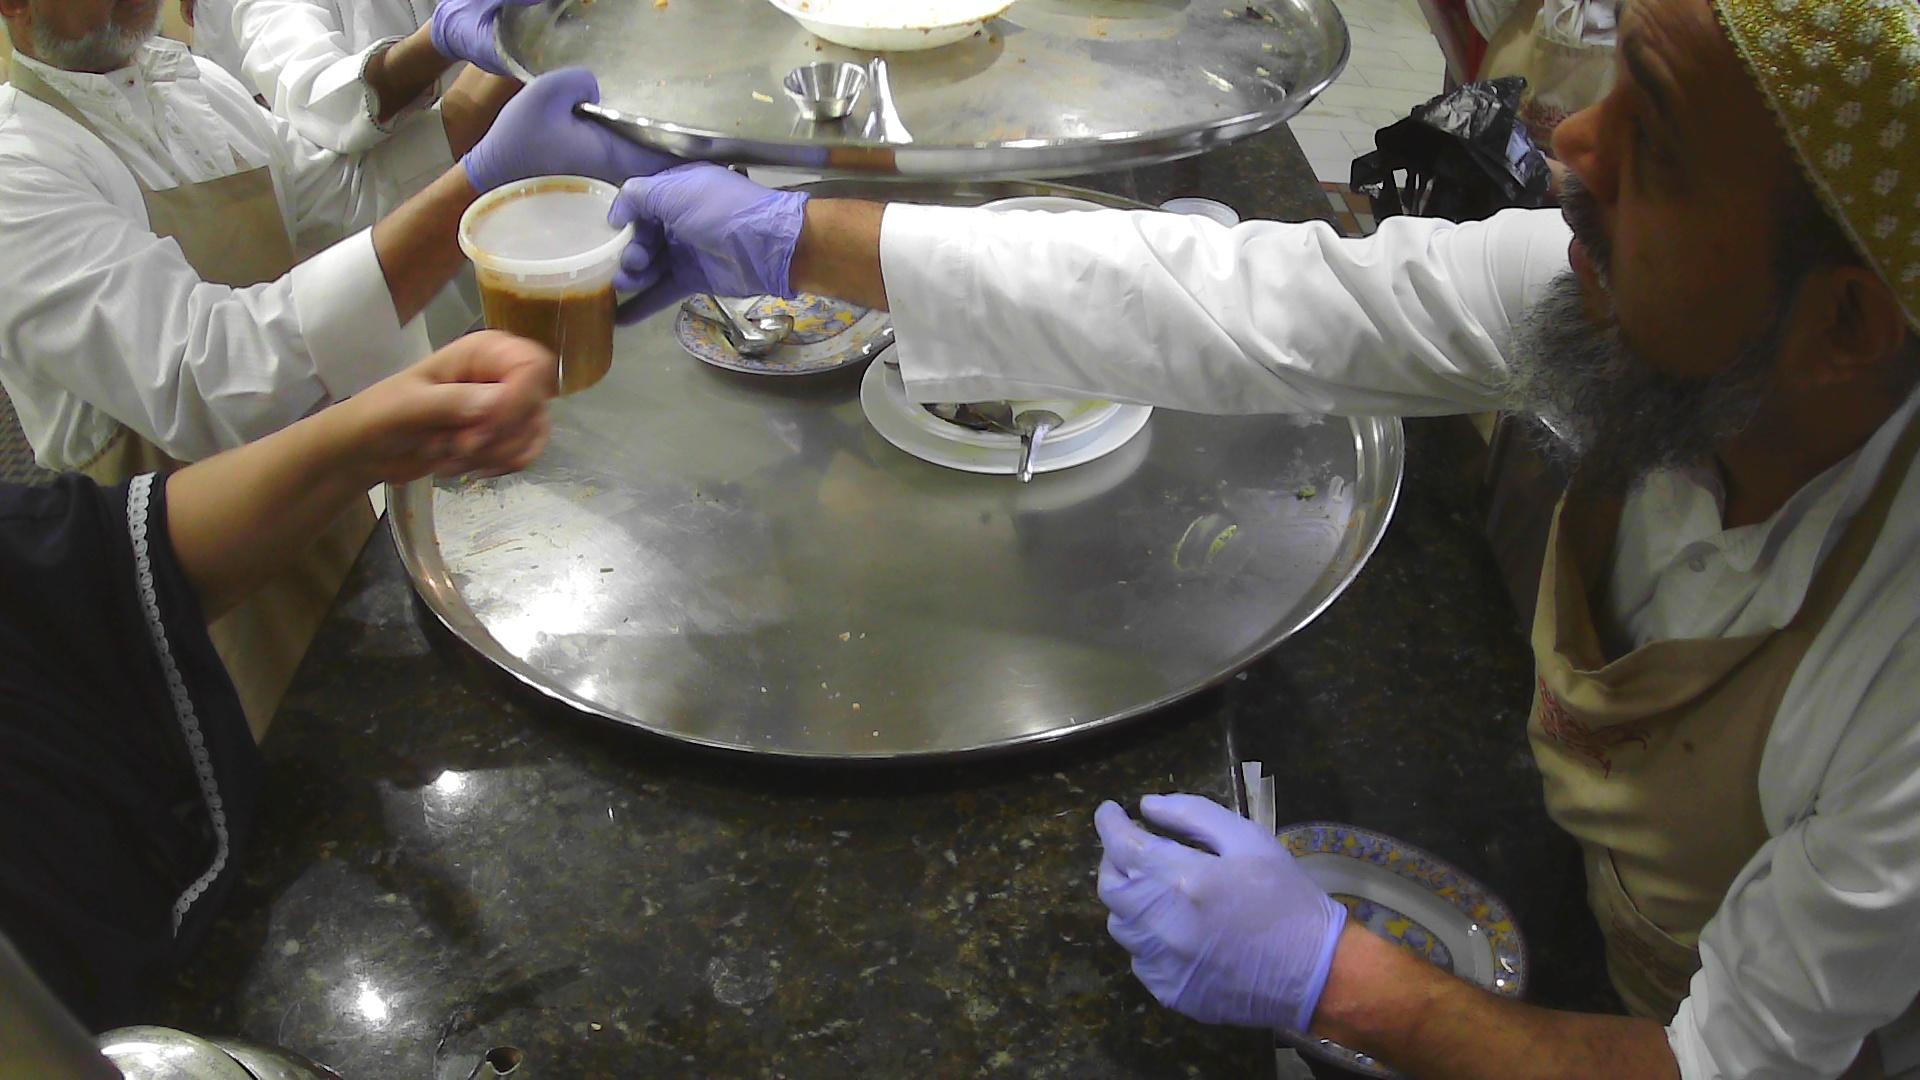thaal: (382, 144, 1411, 787), (476, 0, 1352, 181)
